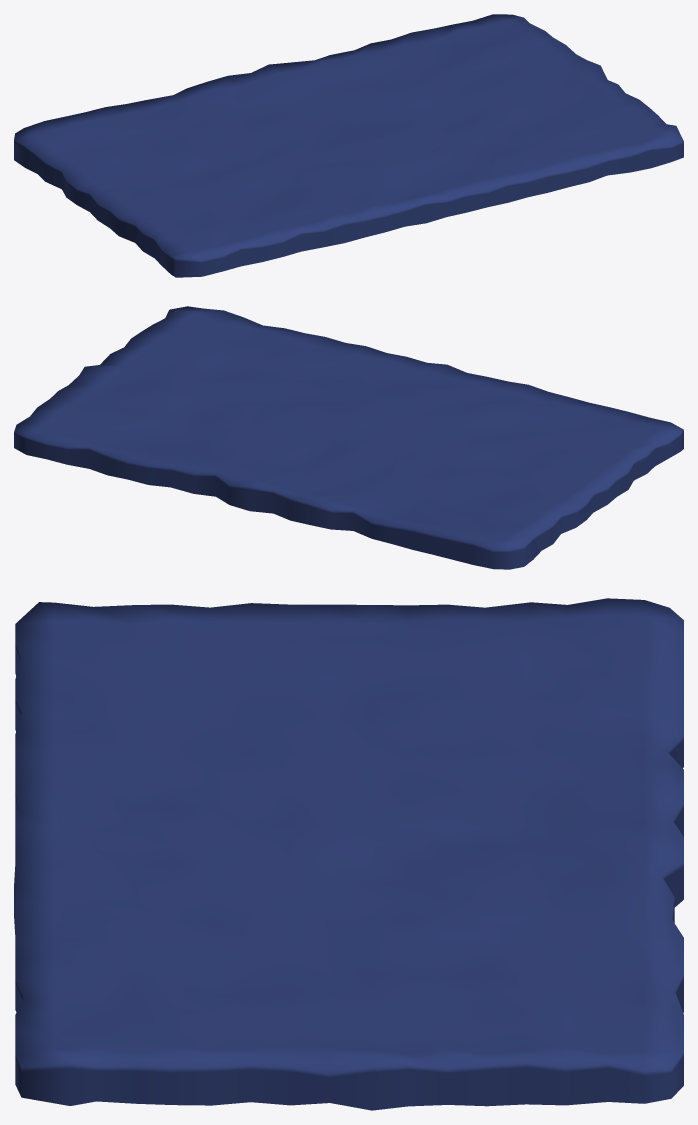
File: Water_SmoothShaded_SharpEdge_Low.fbx
3 renders of one model, top to bottom at view 1: azimuth 30°, elevation 25°; view 2: azimuth 150°, elevation 25°; view 3: azimuth 270°, elevation 25°, orthographic. The views are drawn at different scales.
Parts seen in each view (by area): view 1: Map.002; view 2: Map.002; view 3: Map.002.
Part boxes in pixels (x1,y1,x2,y2): Map.002: (14,14,683,277); Map.002: (14,306,683,569); Map.002: (14,598,683,1110).
Size of the model in its own units: 397 by 18.15 by 239.
